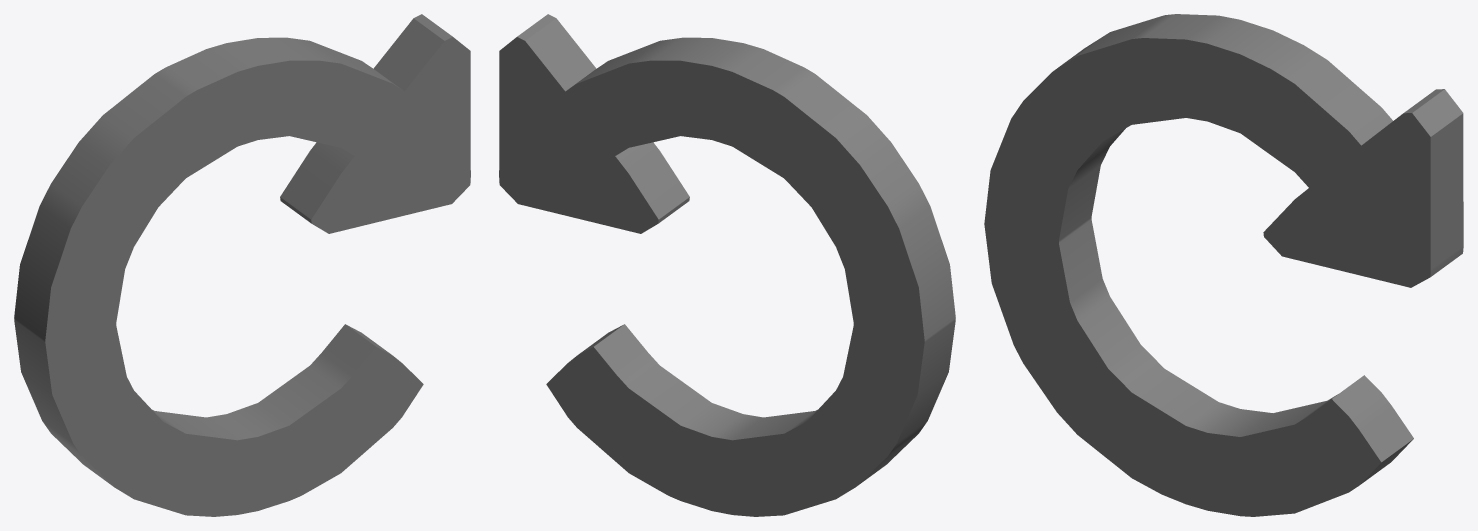
File: fa-rotate-right.obj
The picture shows the model from 3 angles, left to right: view 1: azimuth 30°, elevation 25°; view 2: azimuth 150°, elevation 25°; view 3: azimuth 330°, elevation 25°; orthographic projection. The views are drawn at different scales.
Size of the model in its own units: 0.9072 by 0.9071 by 0.1152.
Materials: 1 (1 with a texture image).
